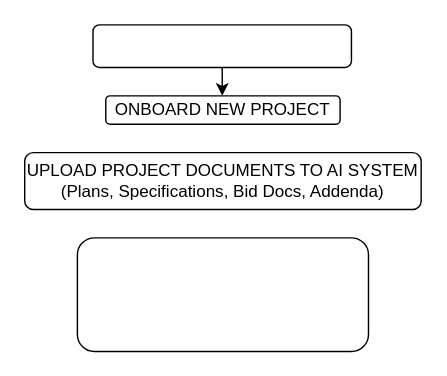
The diagram is 447 pixels wide and 376 high, and some of its shapes have lost their labels. The box of each missing label's shape, as (x1, y1, x2, y2) in pixels:
AI READS & EXTRACTS PROJECT INFORMATION (Project Name, Bid Due,: (76, 236, 368, 351)
NEW PROJECT OPPORTUNITY: (92, 23, 351, 67)
